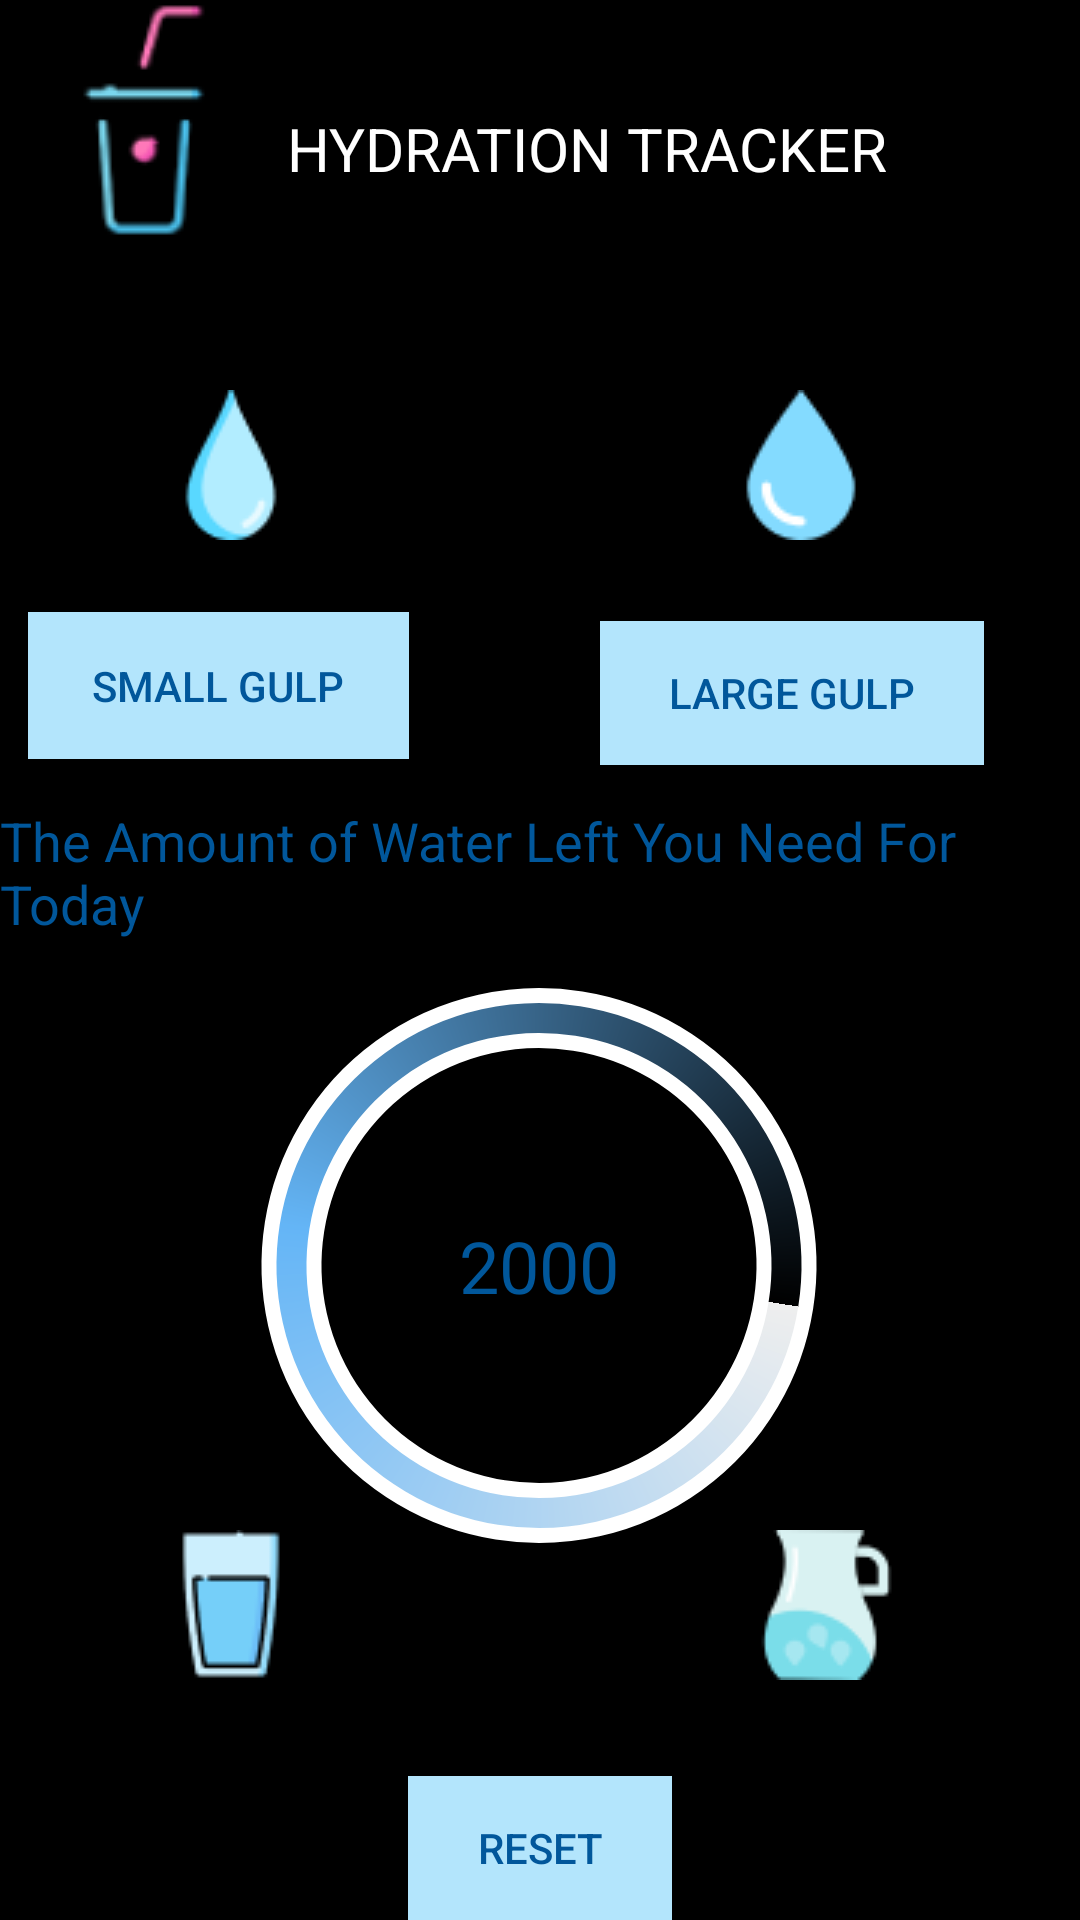

Screen size 1080w x 1920h. Icon name, then its center in pixels as (x=x, y=y):
drink: (x=144, y=120)
largedrop: (x=801, y=465)
smalldrop: (x=231, y=465)
